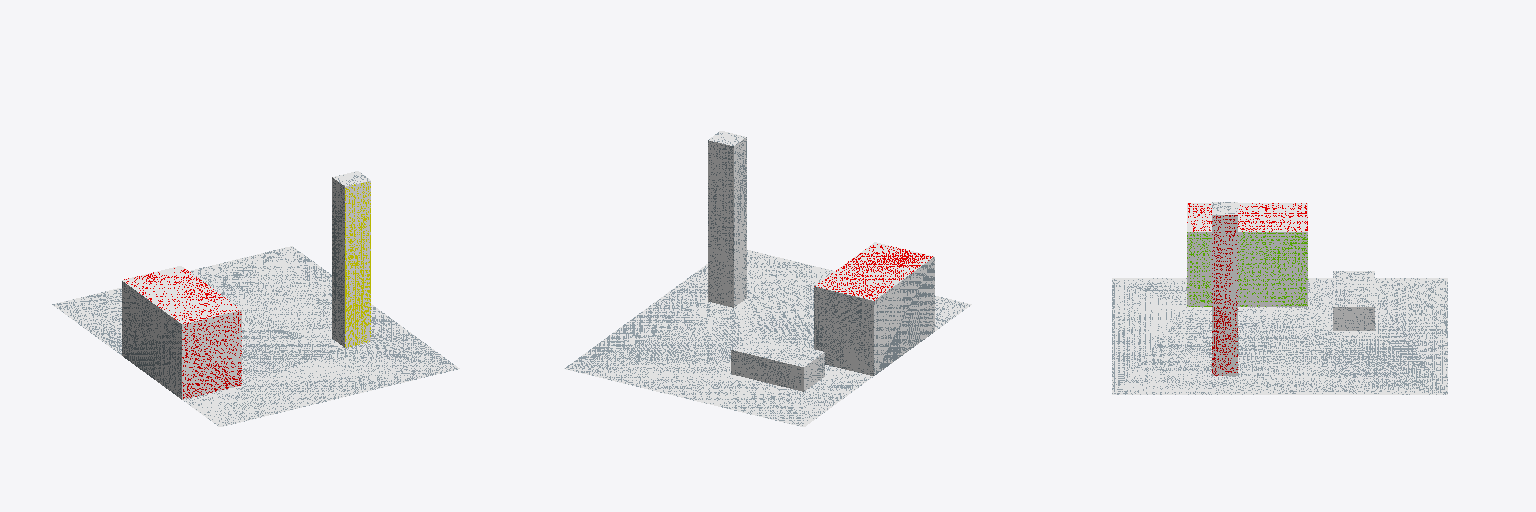
Rendered from VR_instancing_test_model.obj.
3 renders of one model, left to right at view 1: azimuth 30°, elevation 25°; view 2: azimuth 150°, elevation 25°; view 3: azimuth 270°, elevation 25°, orthographic.
Parts seen in each view (by area): view 1: Mesh1 Model; view 2: Mesh1 Model; view 3: Mesh1 Model.
Part boxes in pixels (x1,y1,x2,y2): Mesh1 Model: (52, 171, 459, 426); Mesh1 Model: (564, 131, 971, 426); Mesh1 Model: (1112, 202, 1447, 394).
Size of the model in its own units: 3.6 by 2.31 by 4.36.